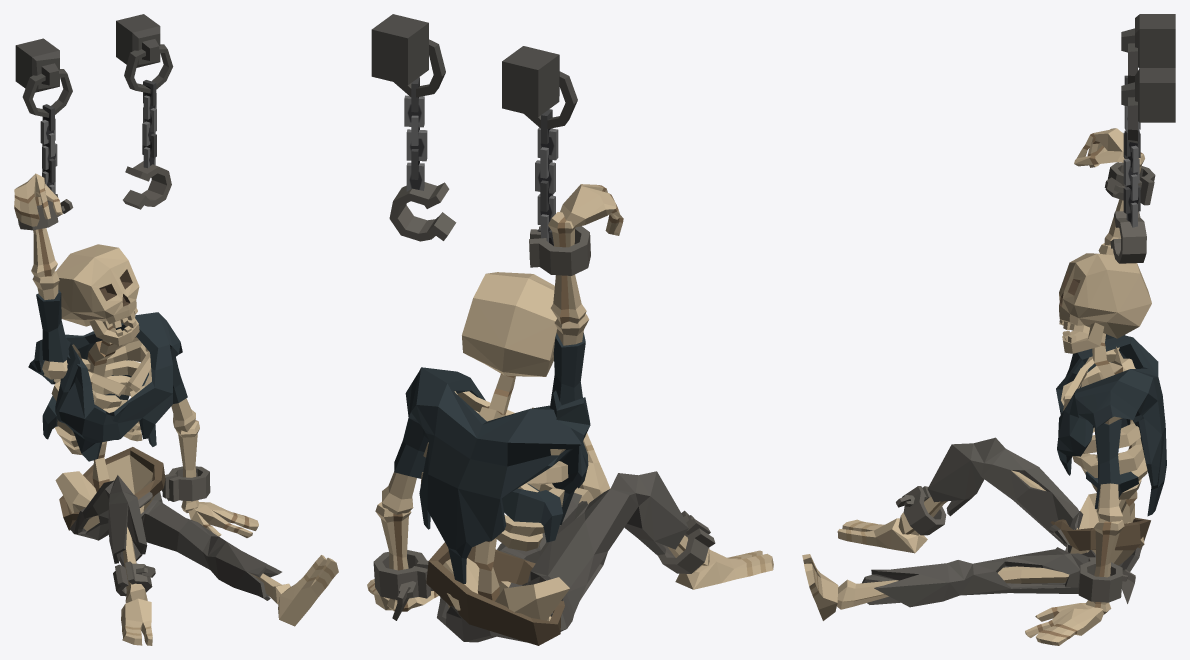
File: SM_Prop_Skeleton_Slave_Shackles_01.fbx
The picture shows the model from 3 angles, left to right: view 1: azimuth 30°, elevation 25°; view 2: azimuth 150°, elevation 25°; view 3: azimuth 270°, elevation 25°; orthographic projection. The views are drawn at different scales.
Visible parts, largest first — view 1: SM_Prop_Skeleton_Slave_Shackles_01; view 2: SM_Prop_Skeleton_Slave_Shackles_01; view 3: SM_Prop_Skeleton_Slave_Shackles_01.
Part boxes in pixels (box(x1,y1,x2,y2)): SM_Prop_Skeleton_Slave_Shackles_01: box(14, 14, 338, 645); SM_Prop_Skeleton_Slave_Shackles_01: box(367, 14, 773, 645); SM_Prop_Skeleton_Slave_Shackles_01: box(802, 14, 1175, 645).
Bounding box in the file's own units: 82.87 × 176 × 109.
